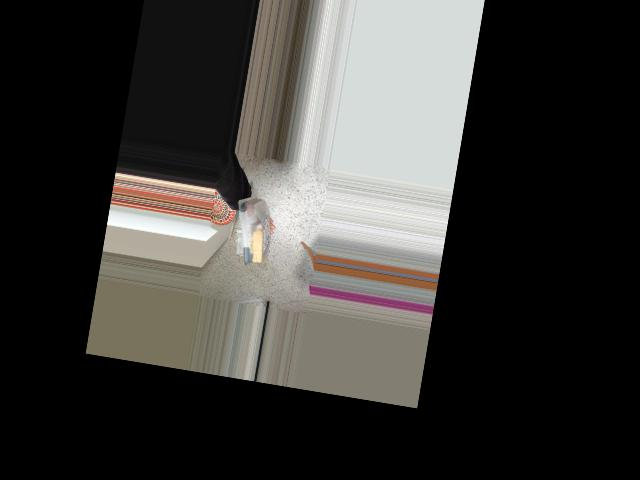cheese: (226, 195, 277, 268)
